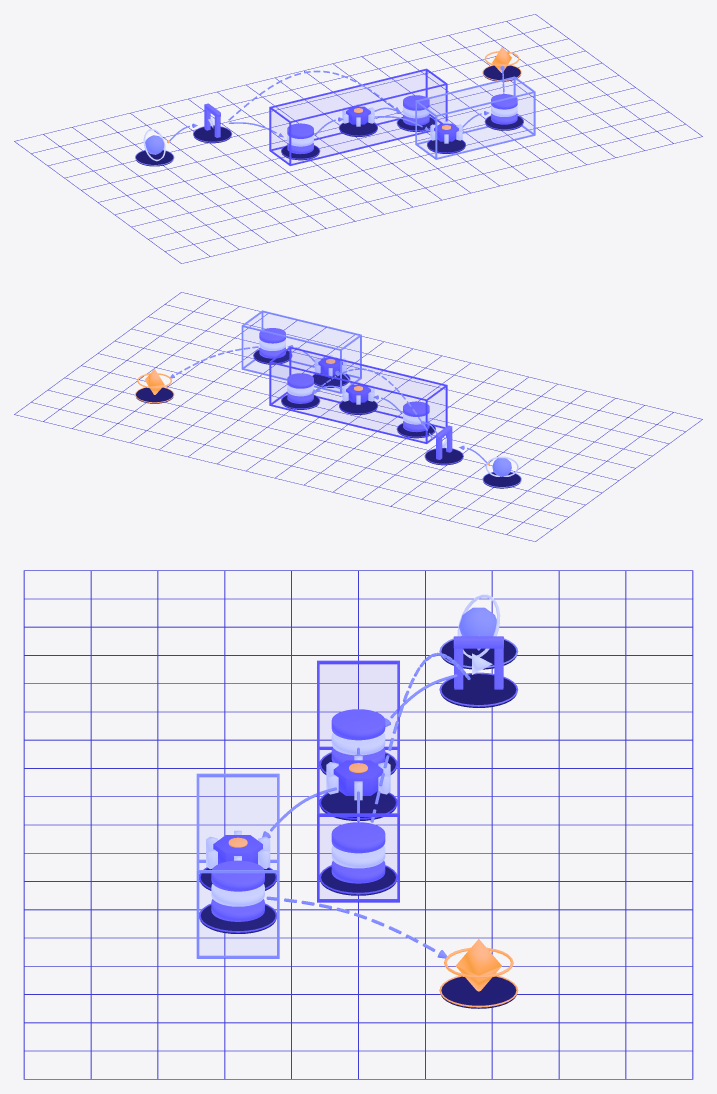
The model's file is postgresql.glb.
3 renders of one model, top to bottom at view 1: azimuth 30°, elevation 25°; view 2: azimuth 150°, elevation 25°; view 3: azimuth 270°, elevation 25°, orthographic. The views are drawn at different scales.
Parts seen in each view (by area): view 1: floor, group_Database_nodes, group_Backup, mesh_pool_pad, mesh_app_pad, mesh_wal_pad, mesh_archive_pad, mesh_restore_pad; view 2: floor, group_Database_nodes, group_Backup, mesh_restore_pad, mesh_pool_pad, mesh_app_pad, mesh_wal_pad; view 3: floor, group_Database_nodes, group_Backup, mesh_pool_pad, mesh_restore_pad, mesh_primary_disc2, mesh_replica_disc2, mesh_wal_pad, mesh_objstore_disc2, mesh_wal_hex, mesh_replica_pad, mesh_objstore_pad (+9 smaller).
Boxes of the visible parts, x1,y1,x2,y2 form: floor: (14, 14, 702, 263); group_Database_nodes: (269, 68, 447, 165); group_Backup: (415, 76, 535, 159); mesh_pool_pad: (194, 126, 231, 143); mesh_app_pad: (136, 150, 173, 166); mesh_wal_pad: (340, 122, 376, 136); mesh_archive_pad: (428, 139, 464, 153); mesh_restore_pad: (483, 65, 520, 81); floor: (14, 292, 702, 541); group_Database_nodes: (269, 346, 447, 443); group_Backup: (241, 310, 361, 393); mesh_restore_pad: (136, 387, 173, 403); mesh_pool_pad: (425, 448, 462, 465); mesh_app_pad: (483, 472, 520, 488); mesh_wal_pad: (340, 400, 376, 414); floor: (23, 570, 693, 1079); group_Database_nodes: (317, 660, 399, 902); group_Backup: (196, 773, 279, 958); mesh_pool_pad: (441, 674, 516, 707); mesh_restore_pad: (441, 976, 516, 1008); mesh_primary_disc2: (331, 709, 385, 740); mesh_replica_disc2: (331, 822, 385, 853); mesh_wal_pad: (320, 791, 396, 820); mesh_objstore_disc2: (211, 860, 264, 891); mesh_wal_hex: (333, 760, 383, 795); mesh_replica_pad: (320, 867, 396, 895); mesh_objstore_pad: (200, 905, 275, 933).
Bounding box in the file's own units: 36.03 × 4.28 × 20.03.
